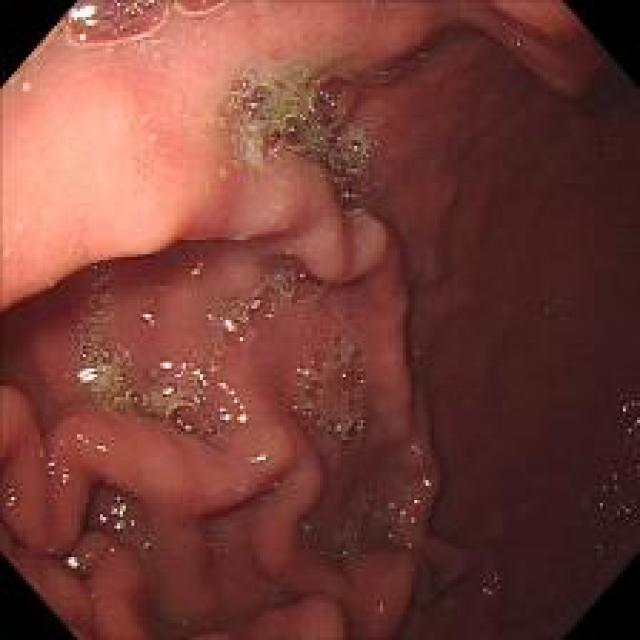bubbles: (51, 1, 239, 52), (76, 279, 146, 412), (304, 335, 374, 445), (211, 272, 295, 349), (321, 132, 376, 212), (215, 71, 275, 125), (300, 65, 356, 122), (165, 396, 220, 441), (260, 114, 312, 159), (326, 531, 356, 568)
color misalignment: (94, 485, 156, 558), (41, 449, 76, 488), (614, 389, 638, 445), (474, 569, 504, 605), (1, 476, 25, 514), (60, 552, 88, 576)
contrast: (409, 19, 632, 610)
specularity: (382, 464, 431, 552), (159, 358, 229, 394), (100, 490, 132, 536), (218, 389, 248, 430), (68, 5, 96, 42), (241, 451, 271, 469), (76, 365, 99, 382), (5, 486, 18, 508), (140, 308, 154, 328), (190, 258, 204, 276), (65, 554, 79, 570), (221, 319, 235, 332)
